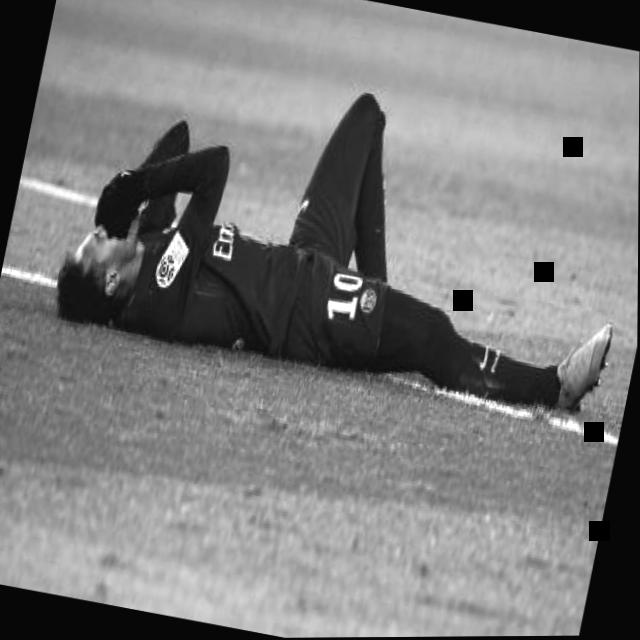Fall-Detected: (24, 16, 640, 430)
